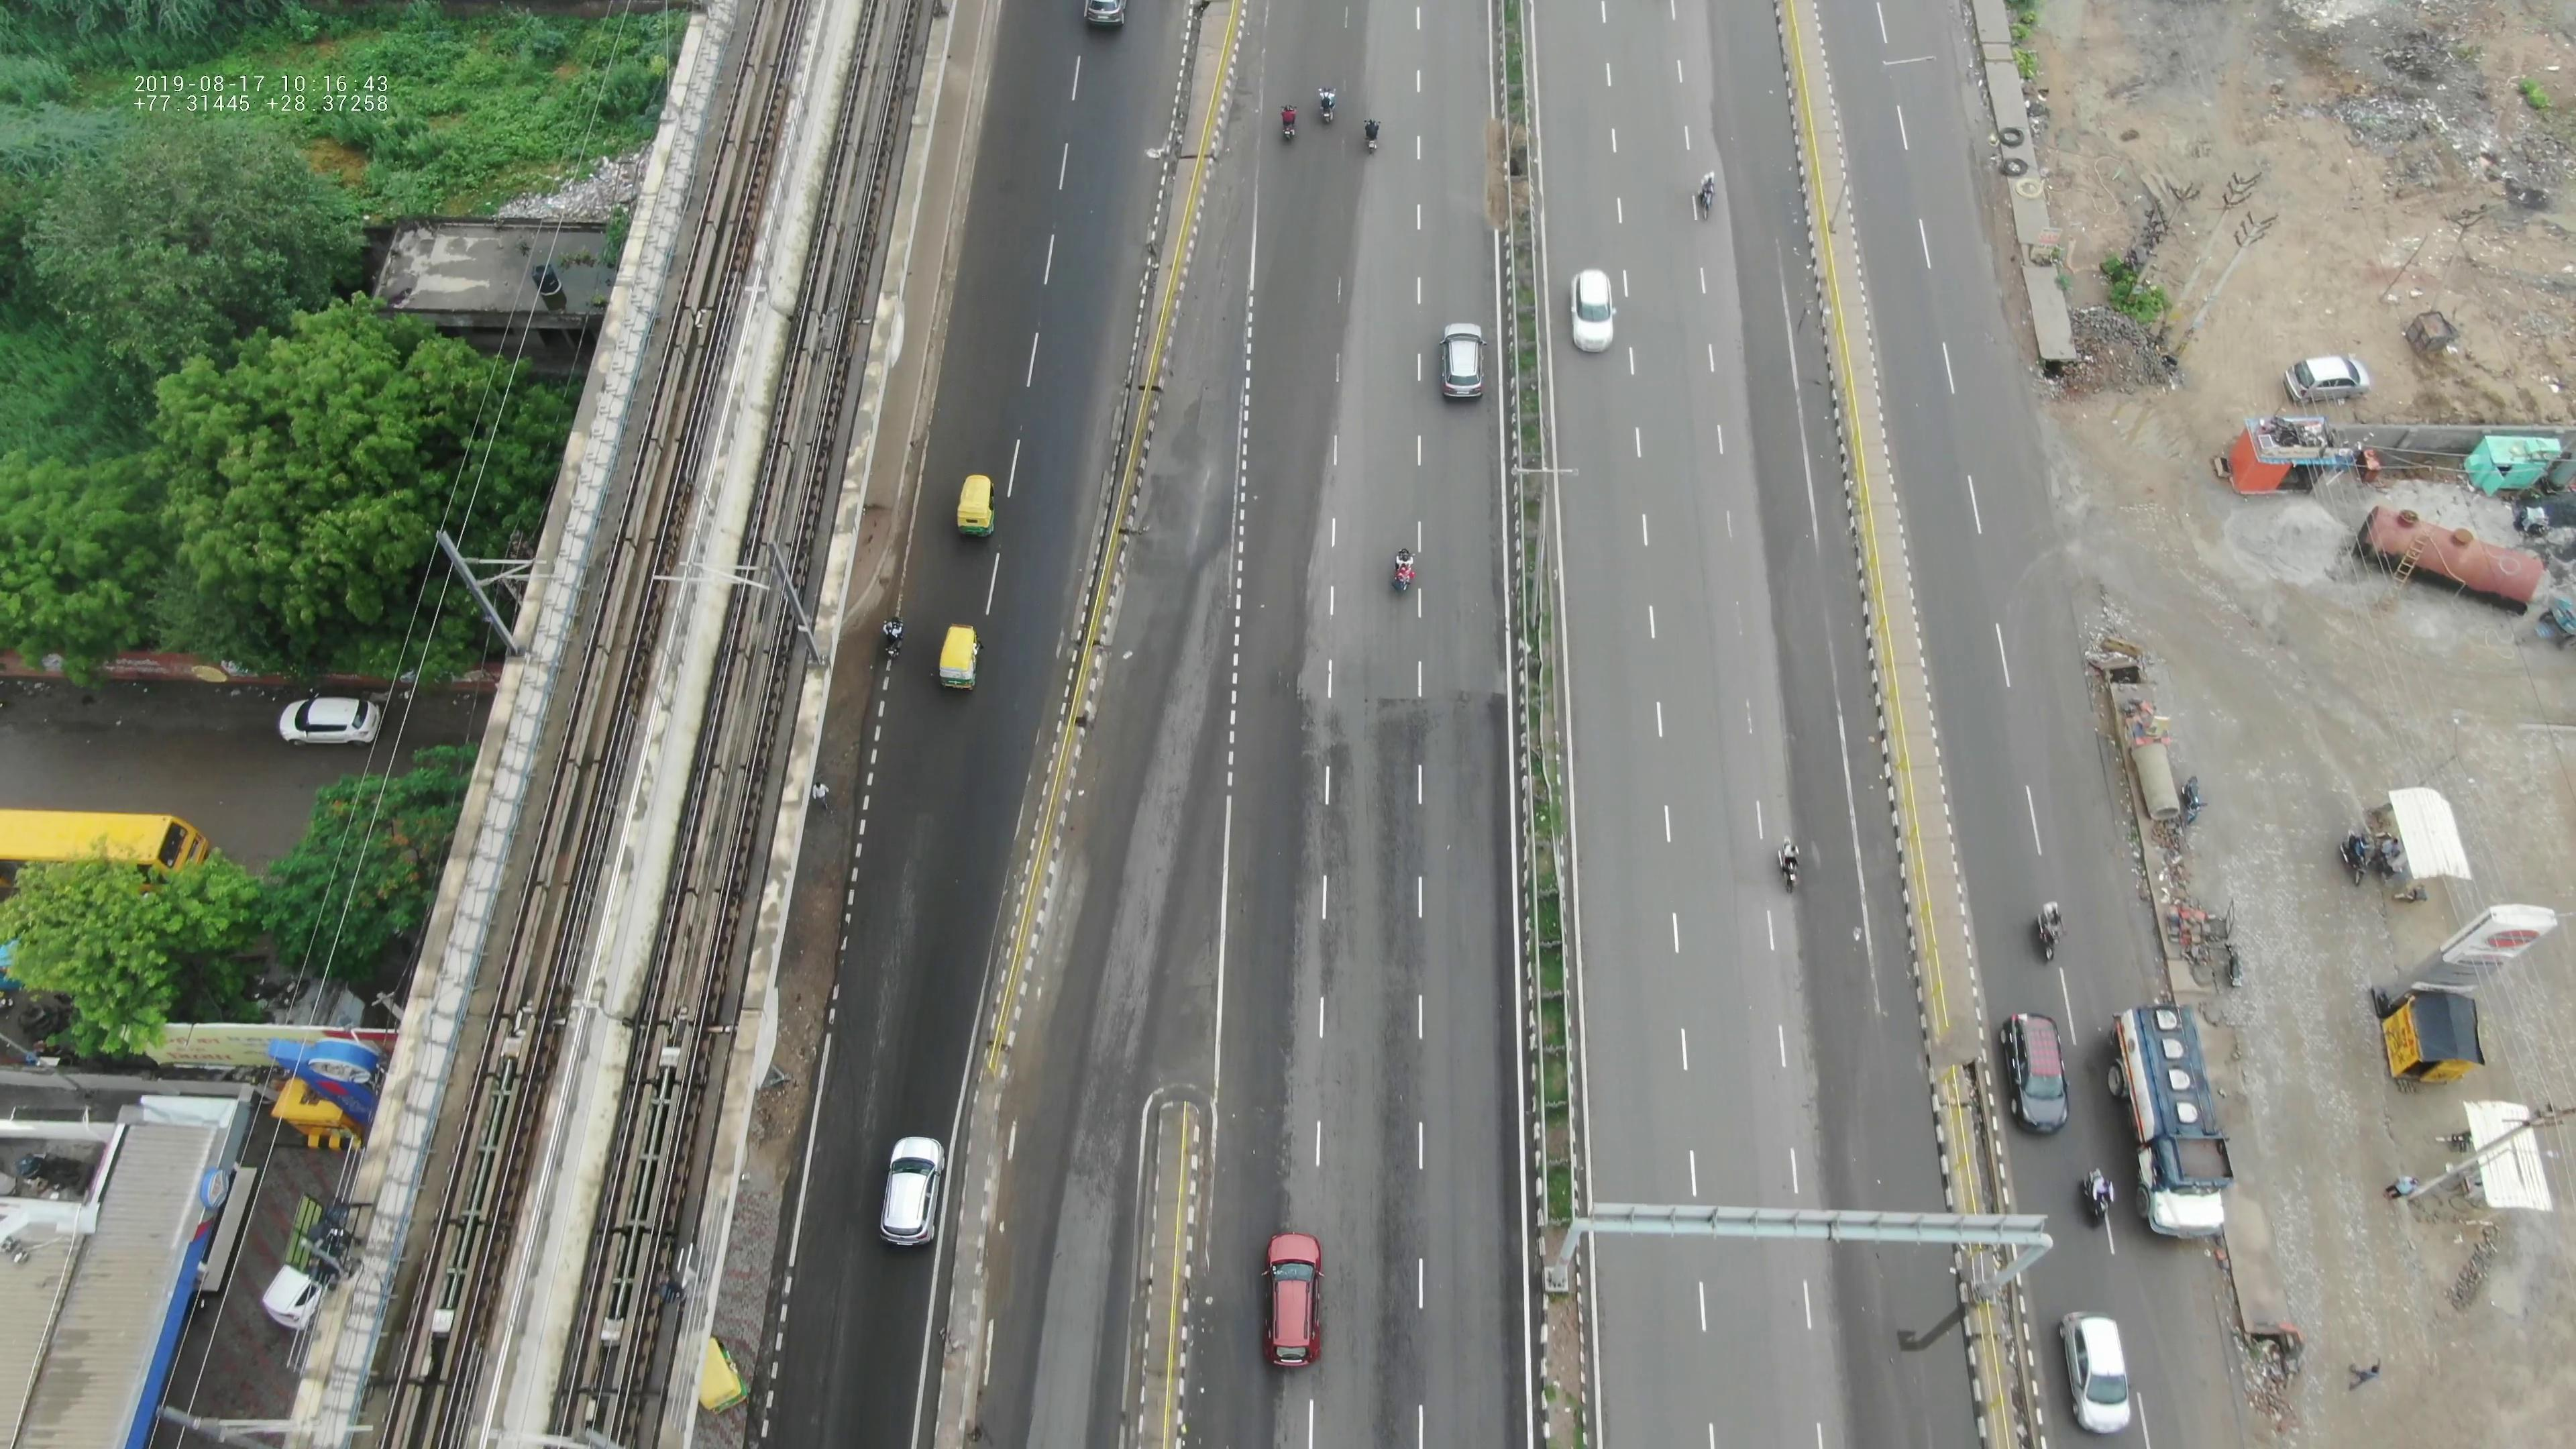Muddy_road: (1458, 113, 1522, 221)
Waterlogging: (1842, 1005, 1967, 1371), (1764, 488, 1881, 747)
